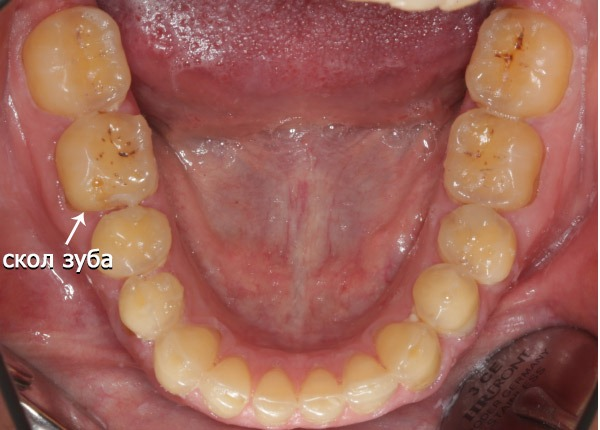LL1BC_healthy: (413, 265, 479, 330)
LL1M_decay: (446, 113, 540, 206)
LL2BC_healthy: (440, 206, 517, 280)
LL2M_decay: (468, 9, 570, 113)
LLCI_healthy: (299, 371, 343, 427)
LLC_healthy: (378, 324, 440, 387)
LLLI_healthy: (345, 357, 393, 409)
LR1BC_healthy: (119, 274, 183, 332)
LR1M_decay: (63, 113, 158, 210)
LR2BC_healthy: (113, 213, 172, 272)
LR2M_decay: (24, 7, 130, 109)
LRCI_healthy: (254, 372, 296, 422)
LRC_healthy: (153, 328, 214, 391)
LRLI_healthy: (206, 358, 250, 417)
